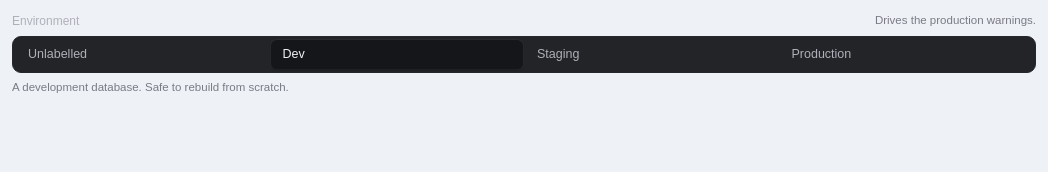
choosing another one › warns as soon as production is picked, not once the server agrees
The image size is (1048, 172).
Click the radio button labelled "Production" at (906, 54), box [780,40,1032,69]
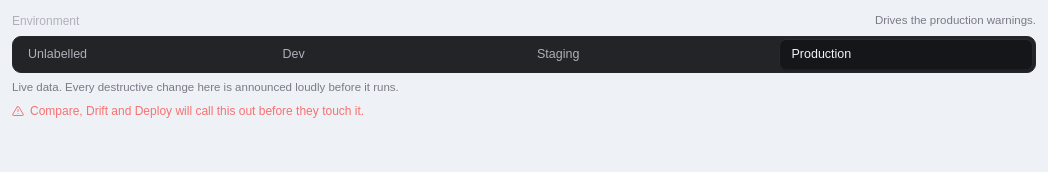
Expected: the text "Compare, Drift and Deploy will call this out before they touch it." is shown, [12,102,364,120]
